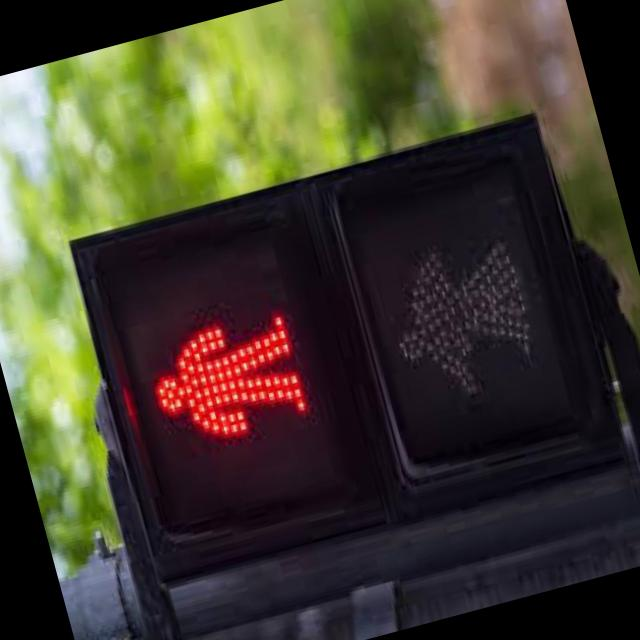red_light: (120, 290, 326, 472)
